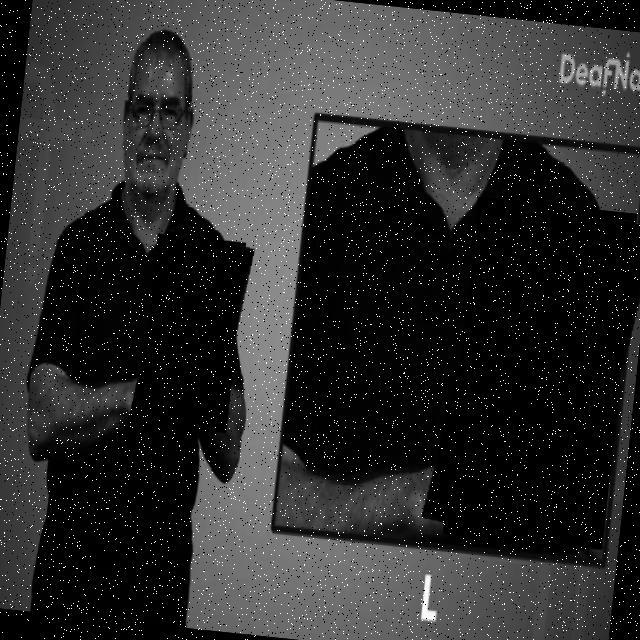L: (432, 191, 640, 556), (134, 231, 252, 436)
